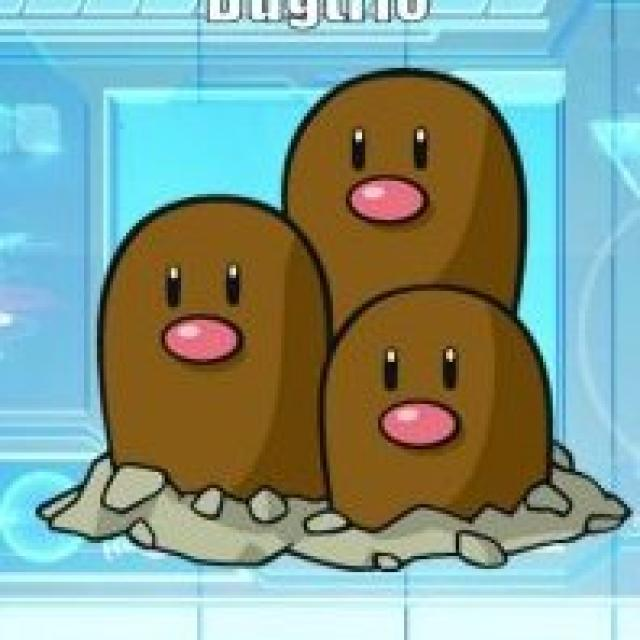Dugtrio: (88, 67, 556, 524)
